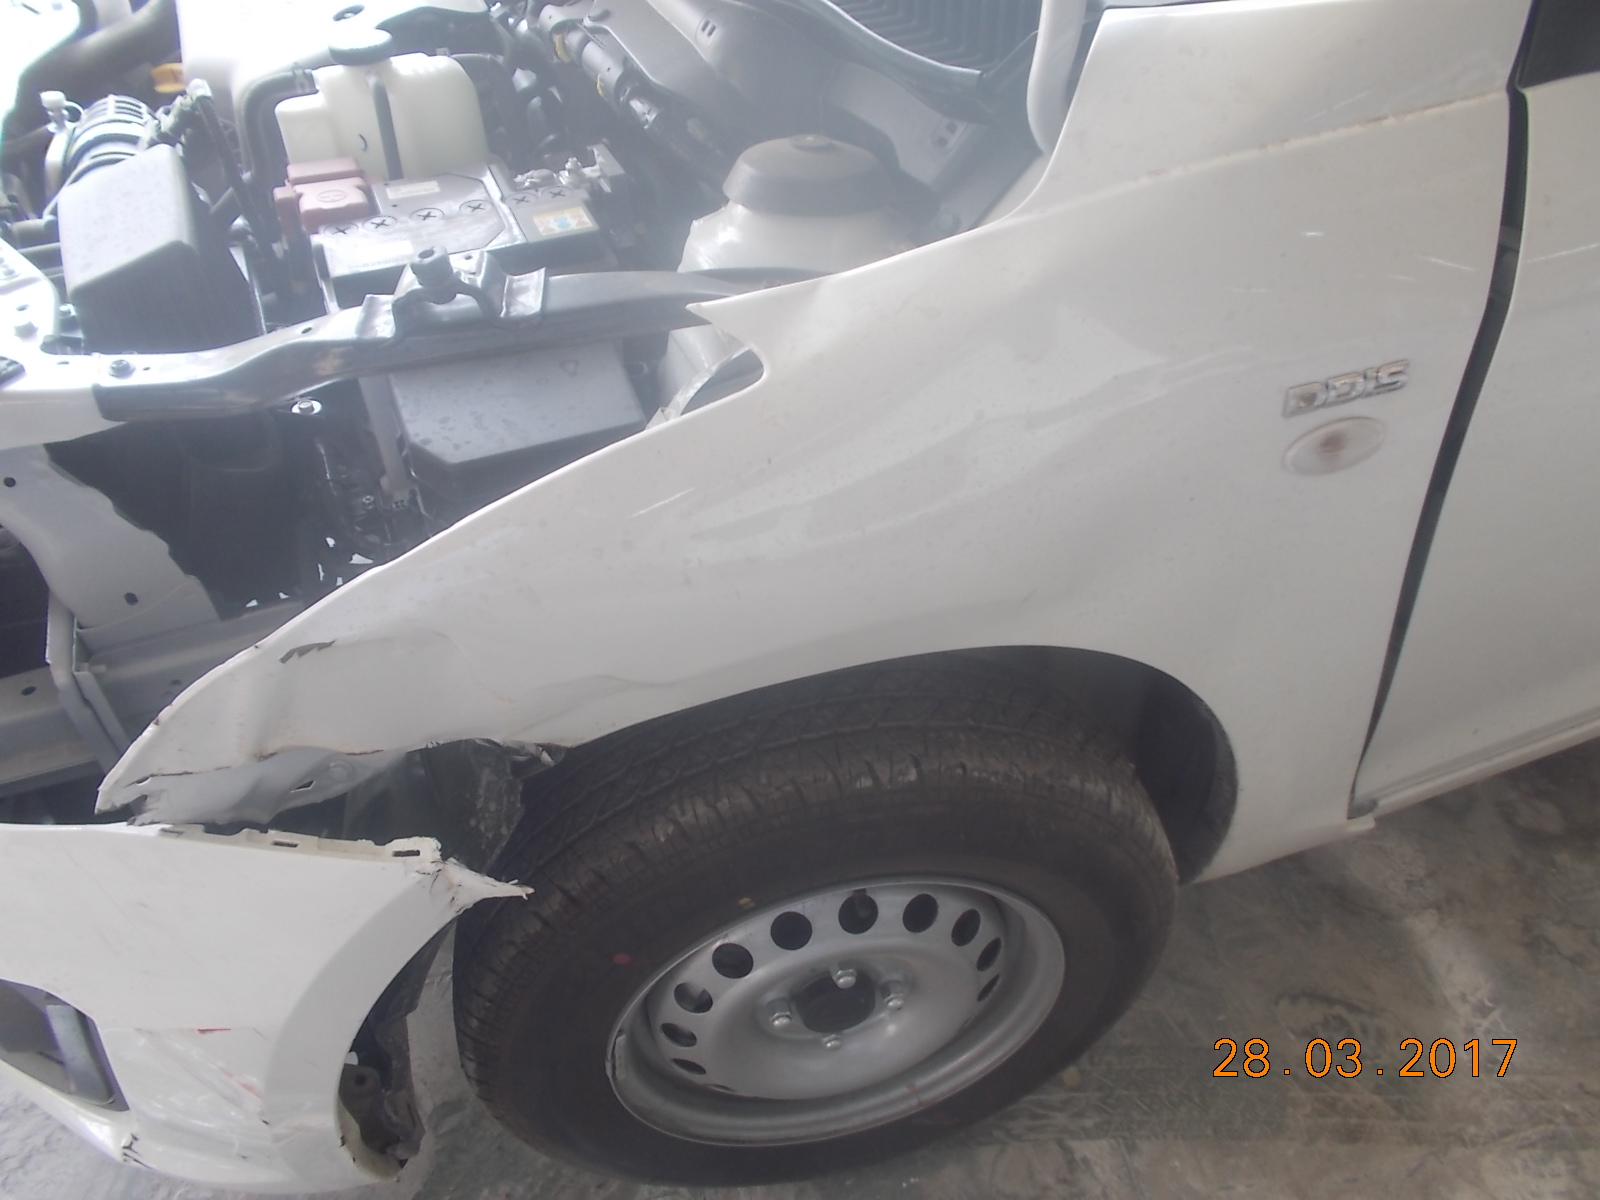Dislocation: (94, 681, 572, 926), (1448, 92, 1558, 376), (1374, 449, 1446, 766)
